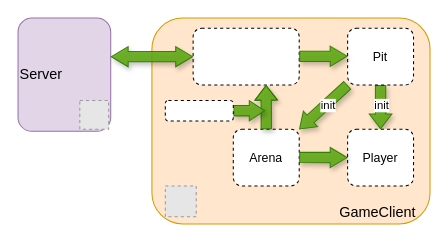
Some shapes in this 448 by 242 pixel diagram are drawn without their labels. Grey dashed boxes stand in for pictures. The shapes that lost their labels are listed below. From the top down, each one's centre as x and y in pixels, then its label:
At point 245,56: "Game Service".
At point 198,110: "Spiellogik".
